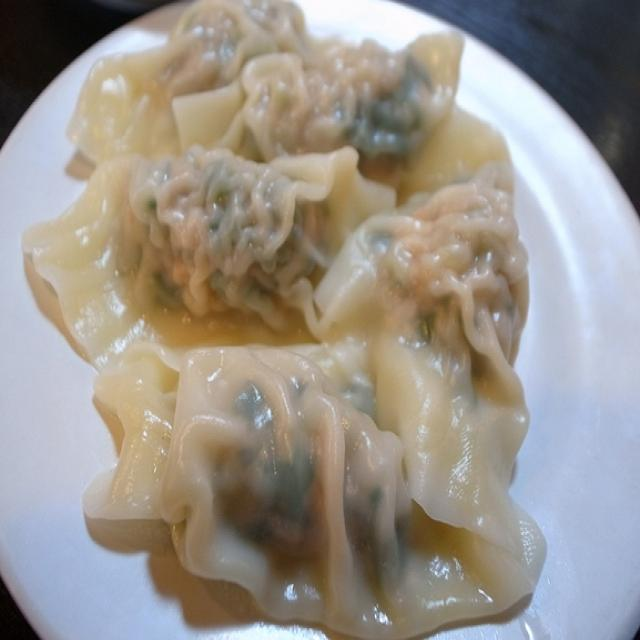带馅早点: (58, 31, 548, 605)
